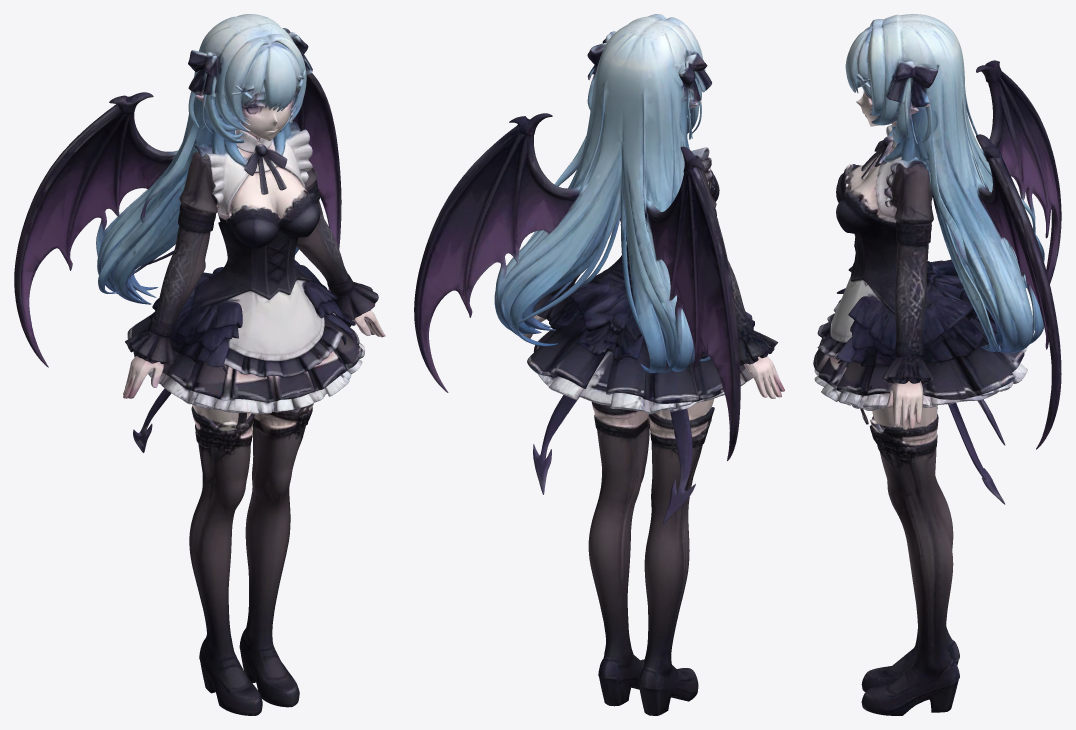
File: luo.glb
3 renders of one model, left to right at view 1: azimuth 30°, elevation 25°; view 2: azimuth 150°, elevation 25°; view 3: azimuth 270°, elevation 25°, orthographic.
Visible parts, largest first — view 1: node_0; view 2: node_0; view 3: node_0.
Part boxes in pixels (x1,y1,x2,y2): node_0: [14, 14, 385, 715]; node_0: [414, 14, 784, 715]; node_0: [813, 14, 1061, 715].
Size of the model in its own units: 0.5964 by 1.17 by 0.389.
Materials: 1 (1 with a texture image).
